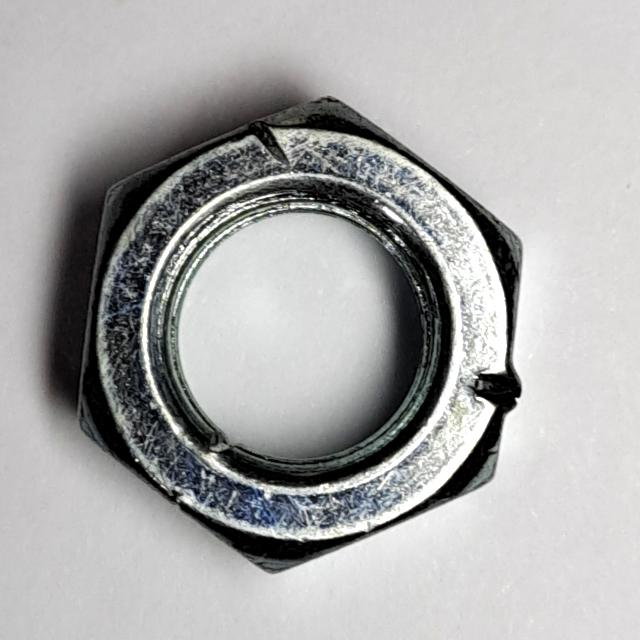Scratches: (70, 87, 536, 584)
